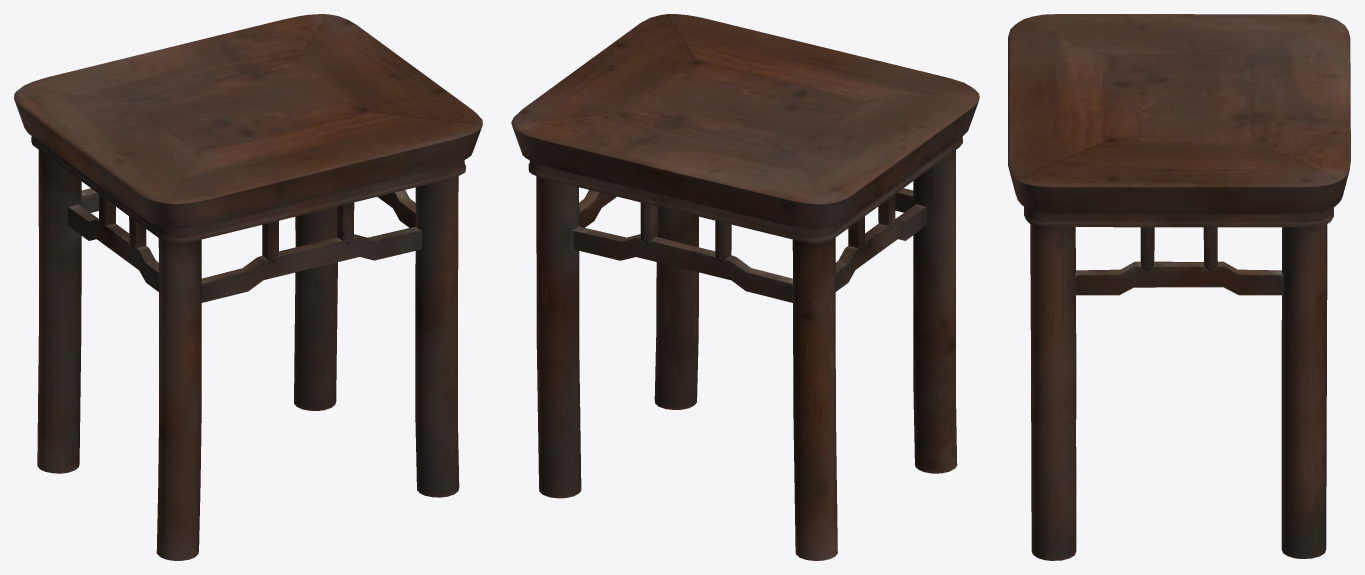
Rendered from ph-chinese_stool.glb.
3 renders of one model, left to right at view 1: azimuth 30°, elevation 25°; view 2: azimuth 150°, elevation 25°; view 3: azimuth 270°, elevation 25°, orthographic. The views are drawn at different scales.
Parts seen in each view (by area): view 1: chinese_stool; view 2: chinese_stool; view 3: chinese_stool.
Boxes of the visible parts, x1,y1,x2,y2 form: chinese_stool: (14,14,482,560); chinese_stool: (511,14,979,560); chinese_stool: (1008,14,1350,560).
Size of the model in its own units: 0.9499 by 1 by 0.8031.
1 material, 1 textured.
